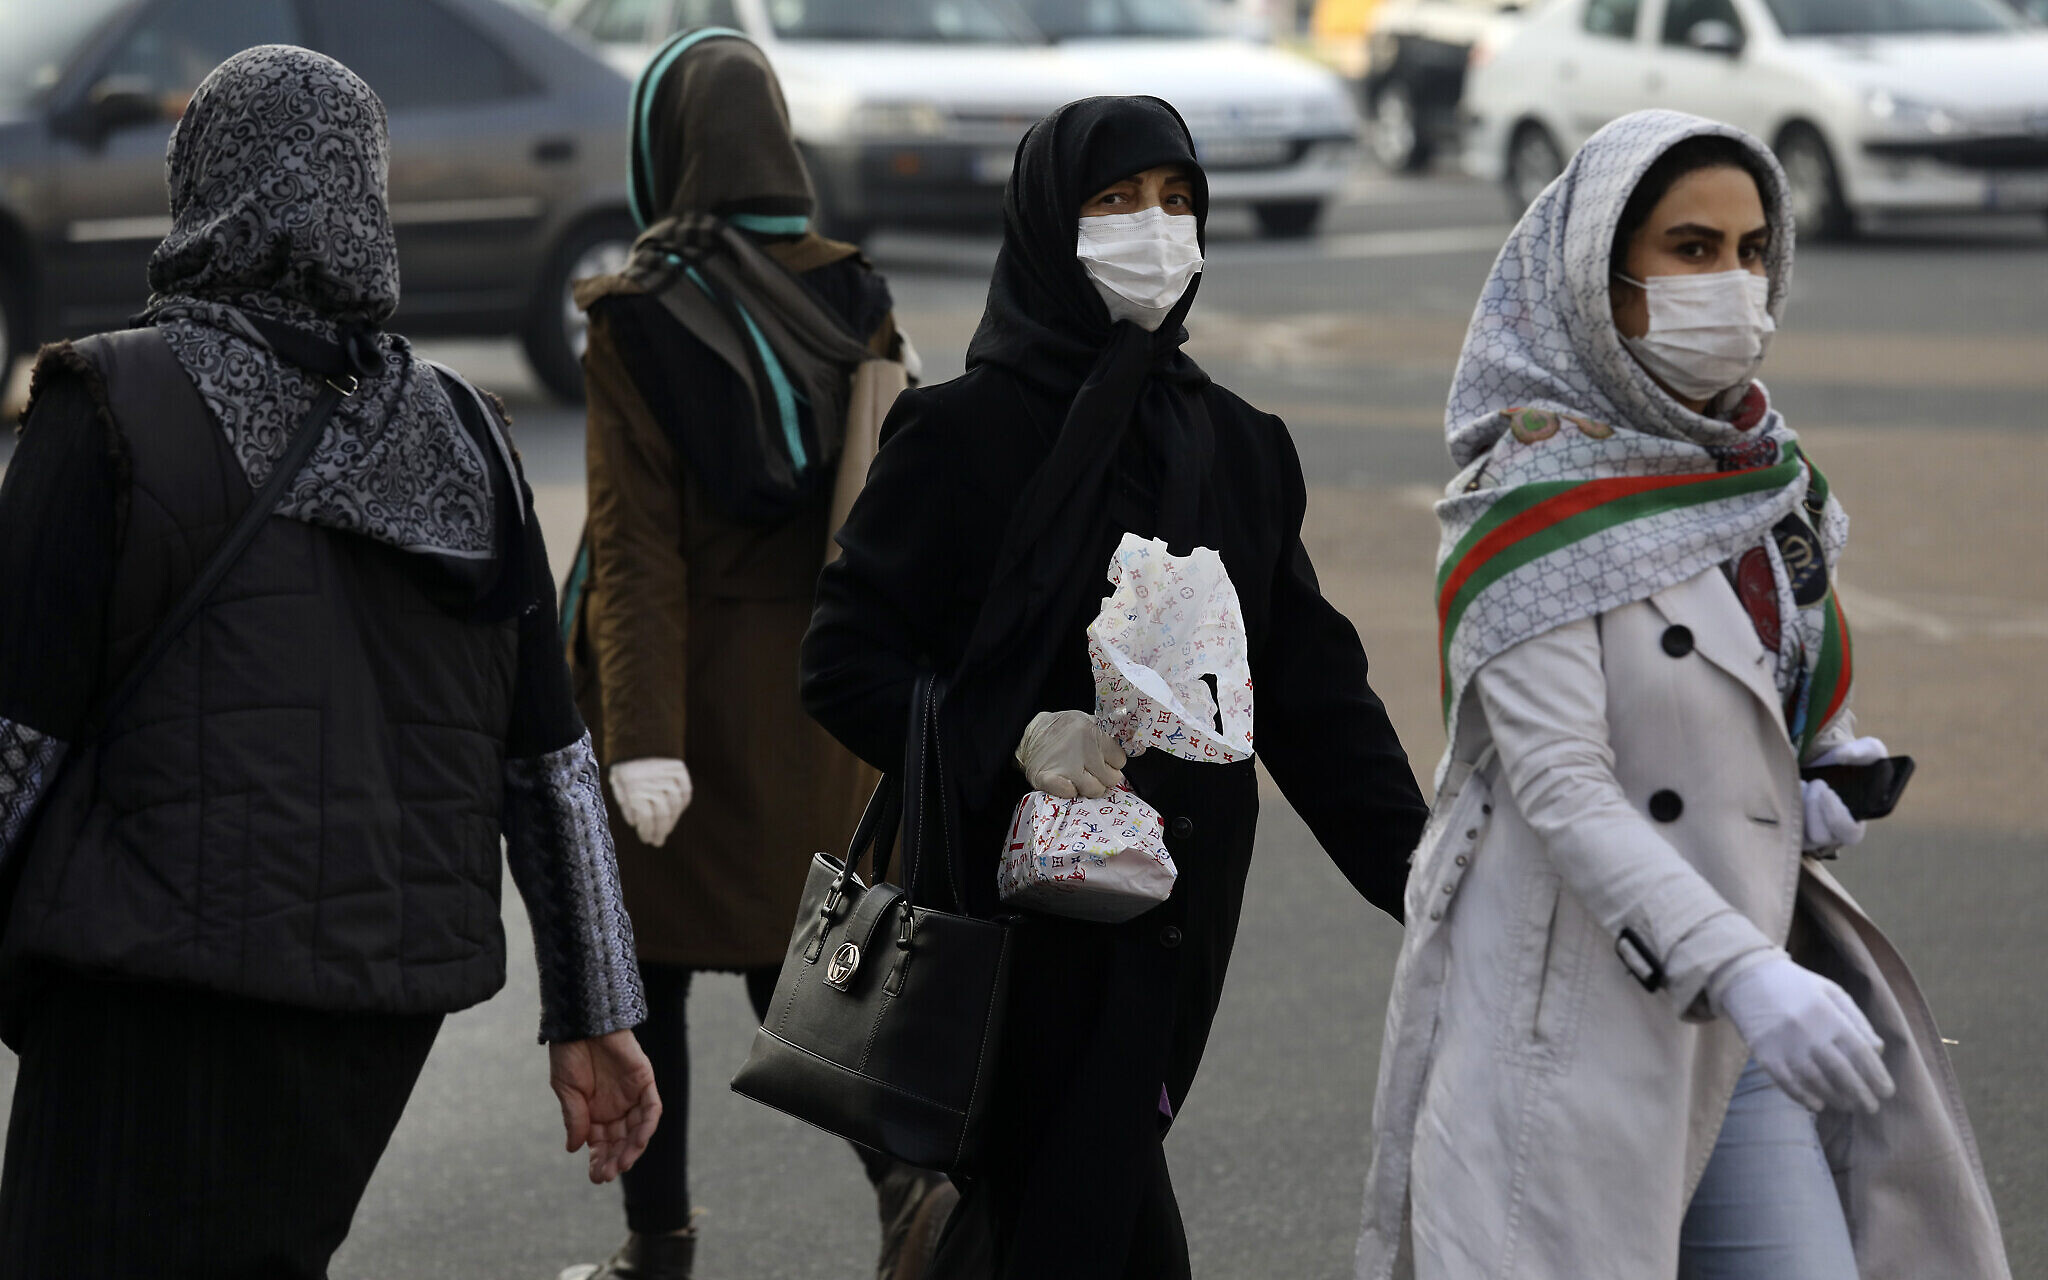Person: (49, 89, 574, 1280), (1415, 148, 1949, 1280), (915, 114, 1332, 1214), (615, 39, 857, 1173)
